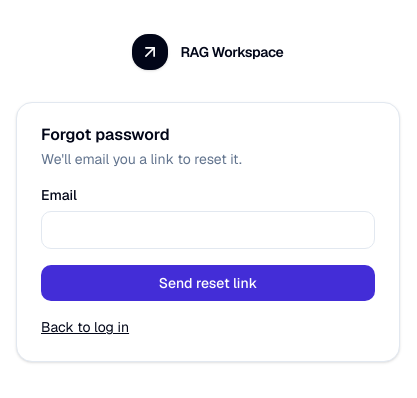
Test: ForgotPasswordPage › shows an error (e.g. rate limited) without replacing the form with a success message
In the field labelled "Email": [208, 230] box 41,211 -> 375,249, type "user@example.com"
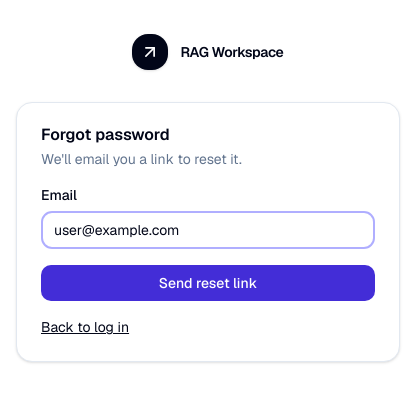
Click the button "Send reset link": [208, 283] box 41,265 -> 375,301
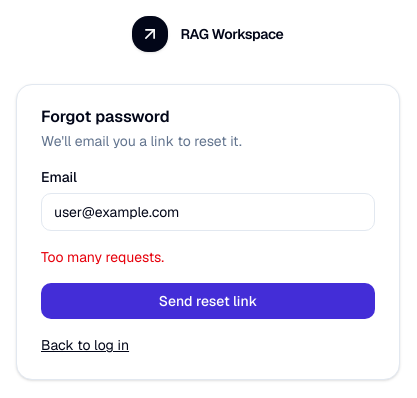
Expected: the text "Too many requests." is shown, 41,248 -> 164,266
